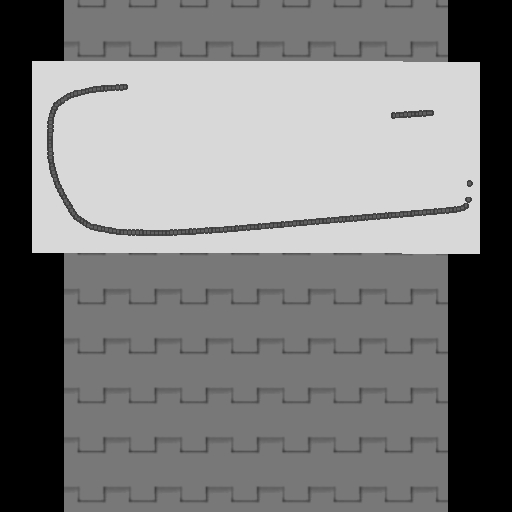Defect: (127, 73, 391, 129)
